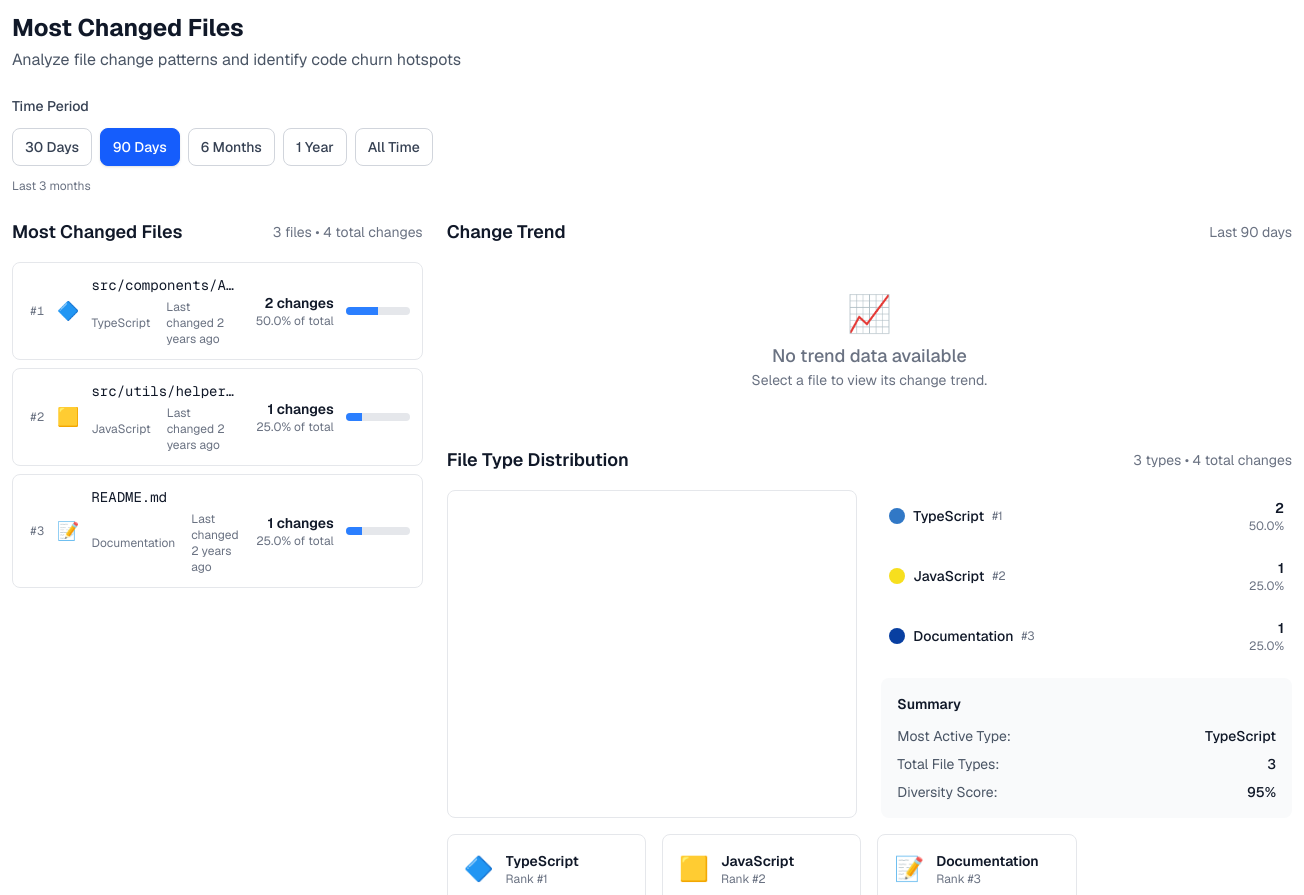
Scenario: MostChangedFiles Integration Tests › Component Interactions › maintains component state during interactions
The width and height of the screenshot is (1304, 895).
Expected: the text "src/components/App.tsx" is shown, x1=92 y1=275 x2=240 y2=295
Select a file
Click the button "src/components/App.tsx".
click(184, 285)  # box x1=12 y1=262 x2=423 y2=360
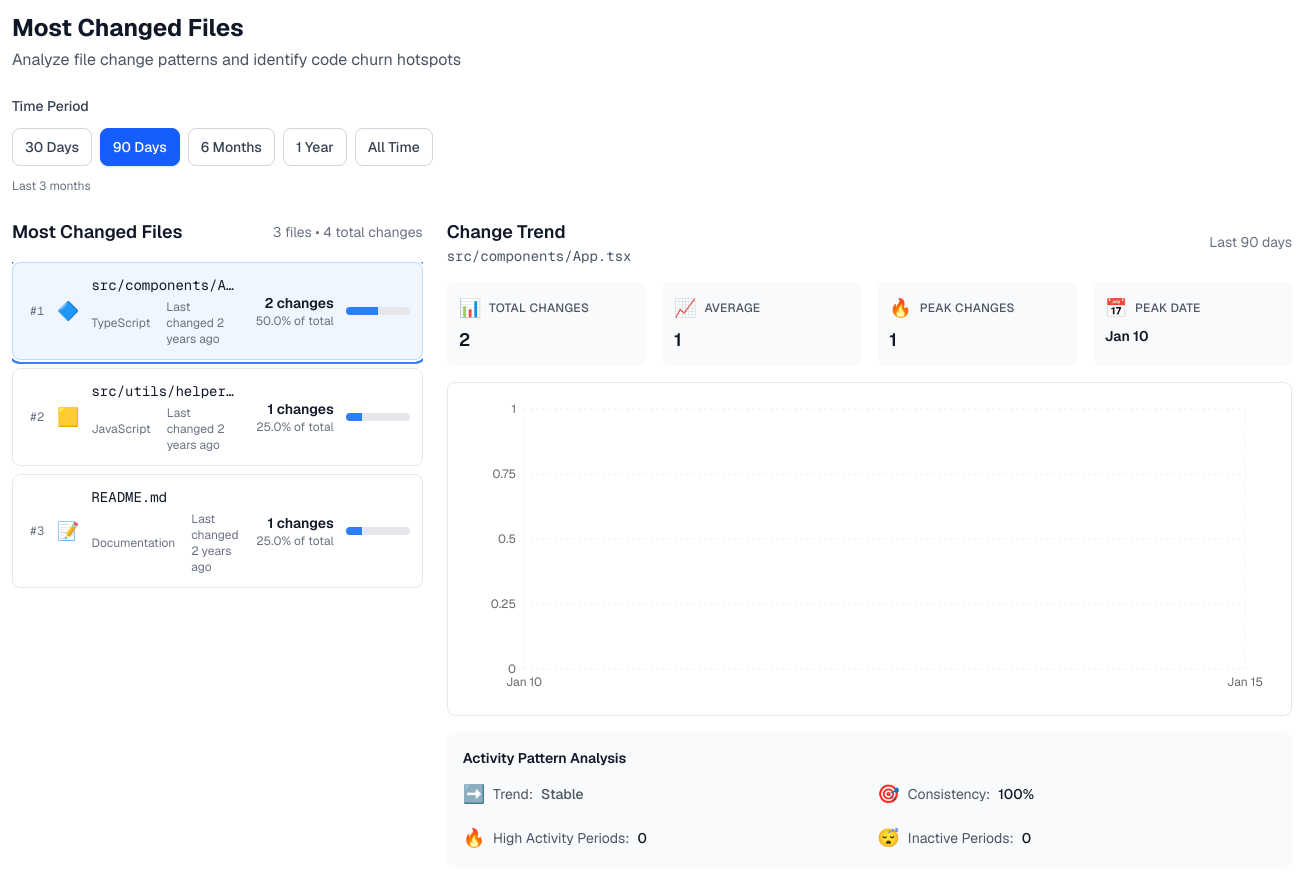
Change time period - should reset file selection
Click the button "30 Days".
click(52, 147)  # box x1=12 y1=128 x2=92 y2=166
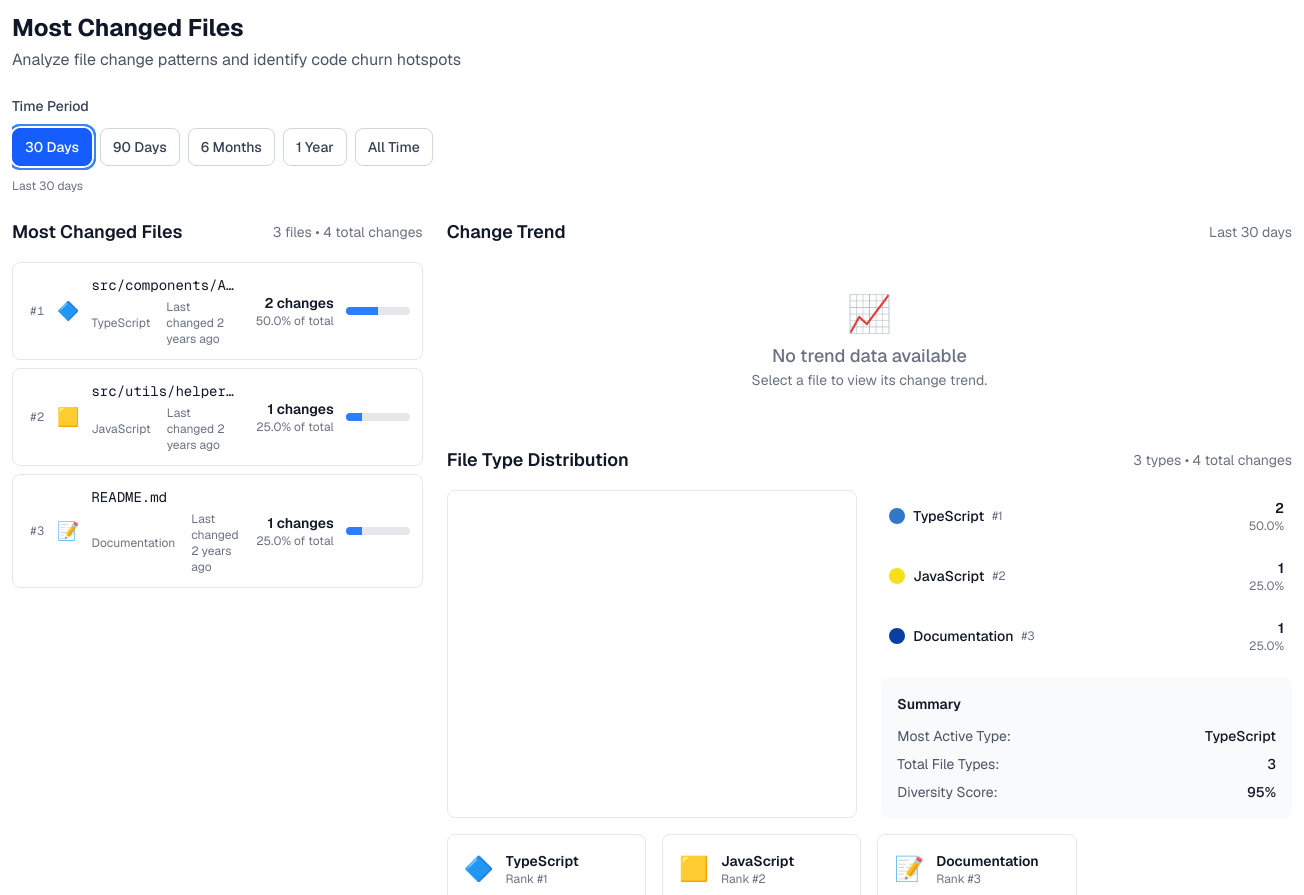
Expected: the text "Select a file to view its change trend." is shown, x1=752 y1=371 x2=987 y2=389
